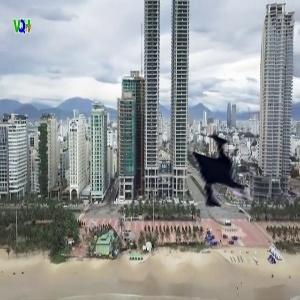drone: (164, 113, 282, 231)
